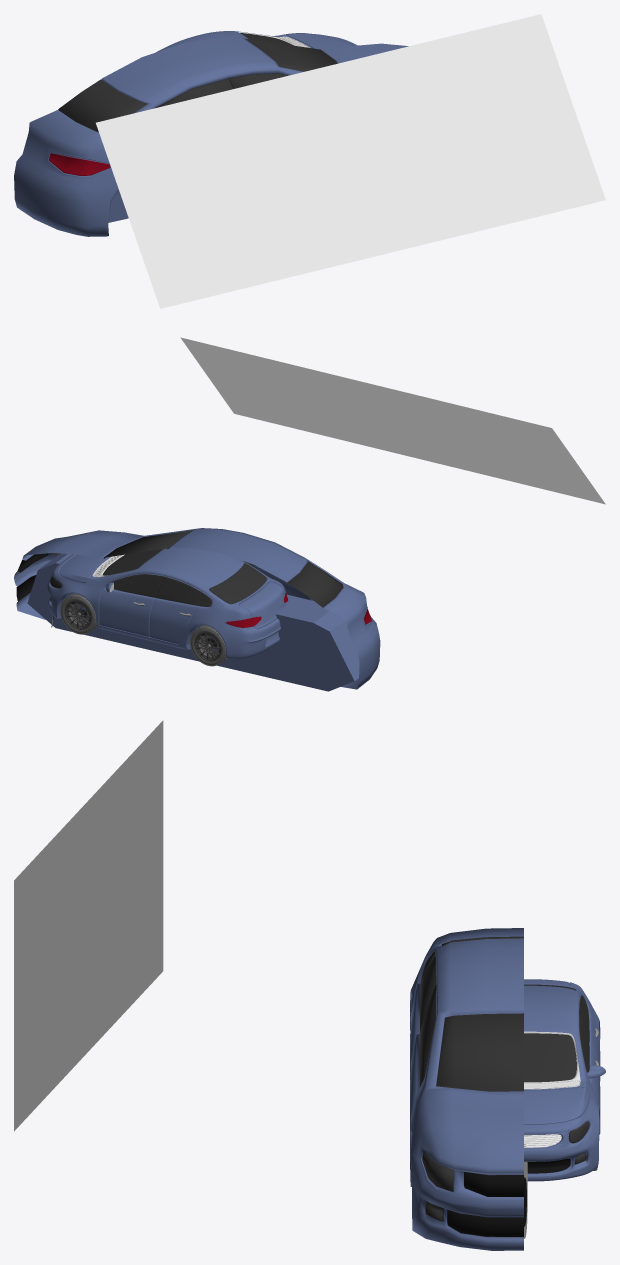
Rendered from autoAzul.fbx.
3 views of the same model, one above another, from view 1: azimuth 30°, elevation 25°; view 2: azimuth 150°, elevation 25°; view 3: azimuth 270°, elevation 25° (orthographic). The views are drawn at different scales.
Visible parts, largest first — view 1: Plane.001, carr.003, carr; view 2: Plane.001, carr.003, carr, roda.003, roda.002; view 3: Plane.001, carr.003, carr.
Part boxes in pixels (x1,y1,x2,y2): Plane.001: (96, 14, 605, 308); carr.003: (14, 37, 408, 236); carr: (156, 31, 357, 52); Plane.001: (180, 337, 605, 504); carr.003: (14, 528, 380, 691); carr: (47, 547, 288, 658); roda.003: (60, 593, 97, 634); roda.002: (190, 625, 227, 666); Plane.001: (14, 720, 163, 1131); carr.003: (410, 928, 523, 1250); carr: (524, 979, 600, 1181).
Size of what is drawn, in the model's own units: 902 by 411 by 819.
